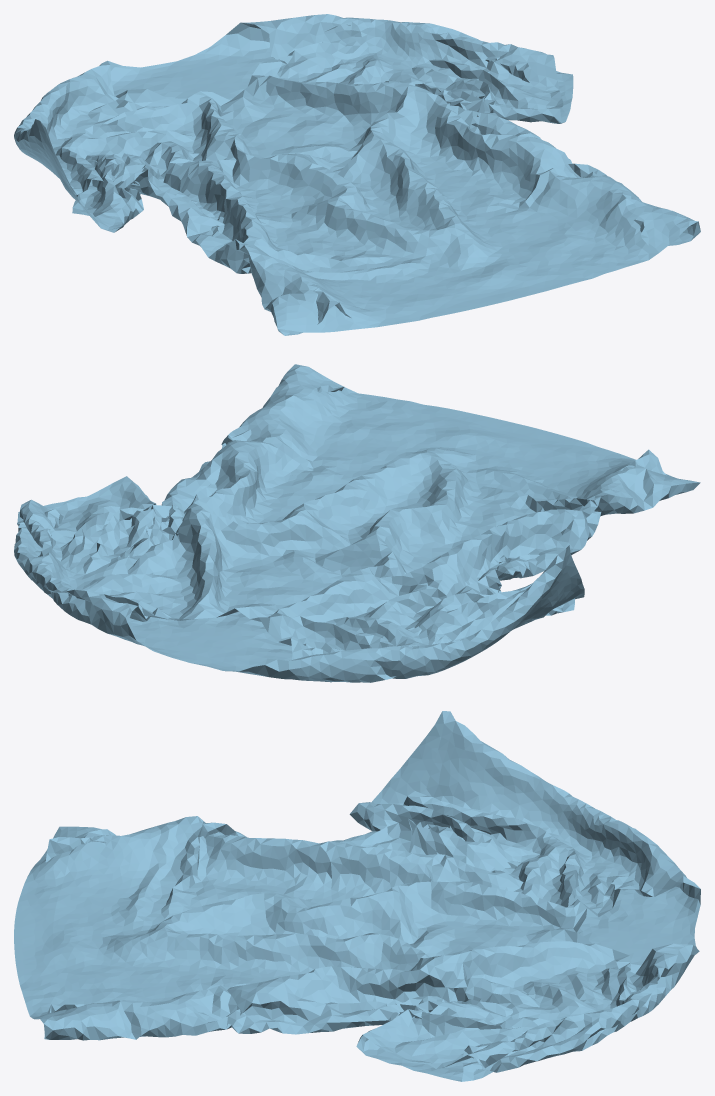
File: frame_04.glb
3 views of the same model, one above another, from view 1: azimuth 30°, elevation 25°; view 2: azimuth 150°, elevation 25°; view 3: azimuth 270°, elevation 25° (orthographic). The views are drawn at different scales.
Visible parts, largest first — view 1: frame_04.obj; view 2: frame_04.obj; view 3: frame_04.obj.
Part boxes in pixels (x1,y1,x2,y2): frame_04.obj: [14, 14, 700, 335]; frame_04.obj: [14, 364, 700, 682]; frame_04.obj: [14, 711, 700, 1081].
Bounding box in the file's own units: 1.63 × 0.2826 × 1.72.
